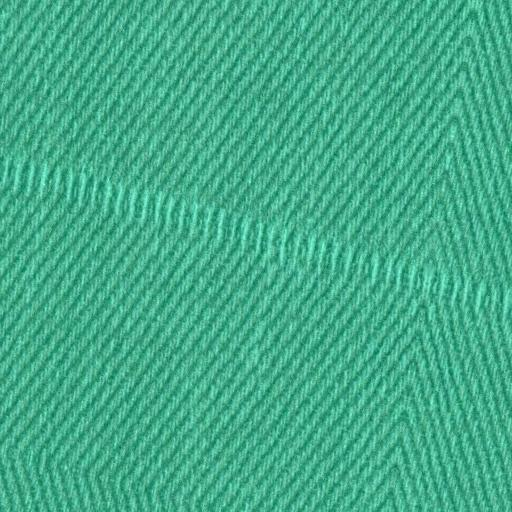slub: (3, 152, 510, 323)
